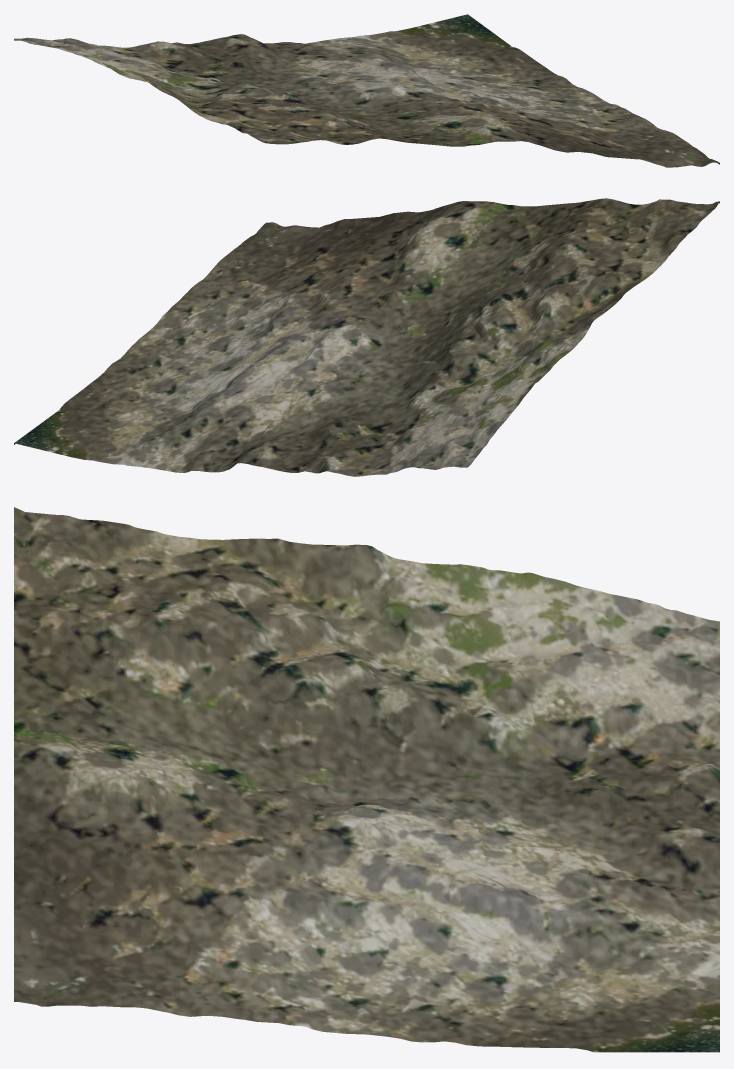
3 views of the same model, one above another, from view 1: azimuth 30°, elevation 25°; view 2: azimuth 150°, elevation 25°; view 3: azimuth 270°, elevation 25° (orthographic). The views are drawn at different scales.
Size of the model in its own units: 250 by 89.49 by 241.
Materials: 1 (1 with a texture image).
